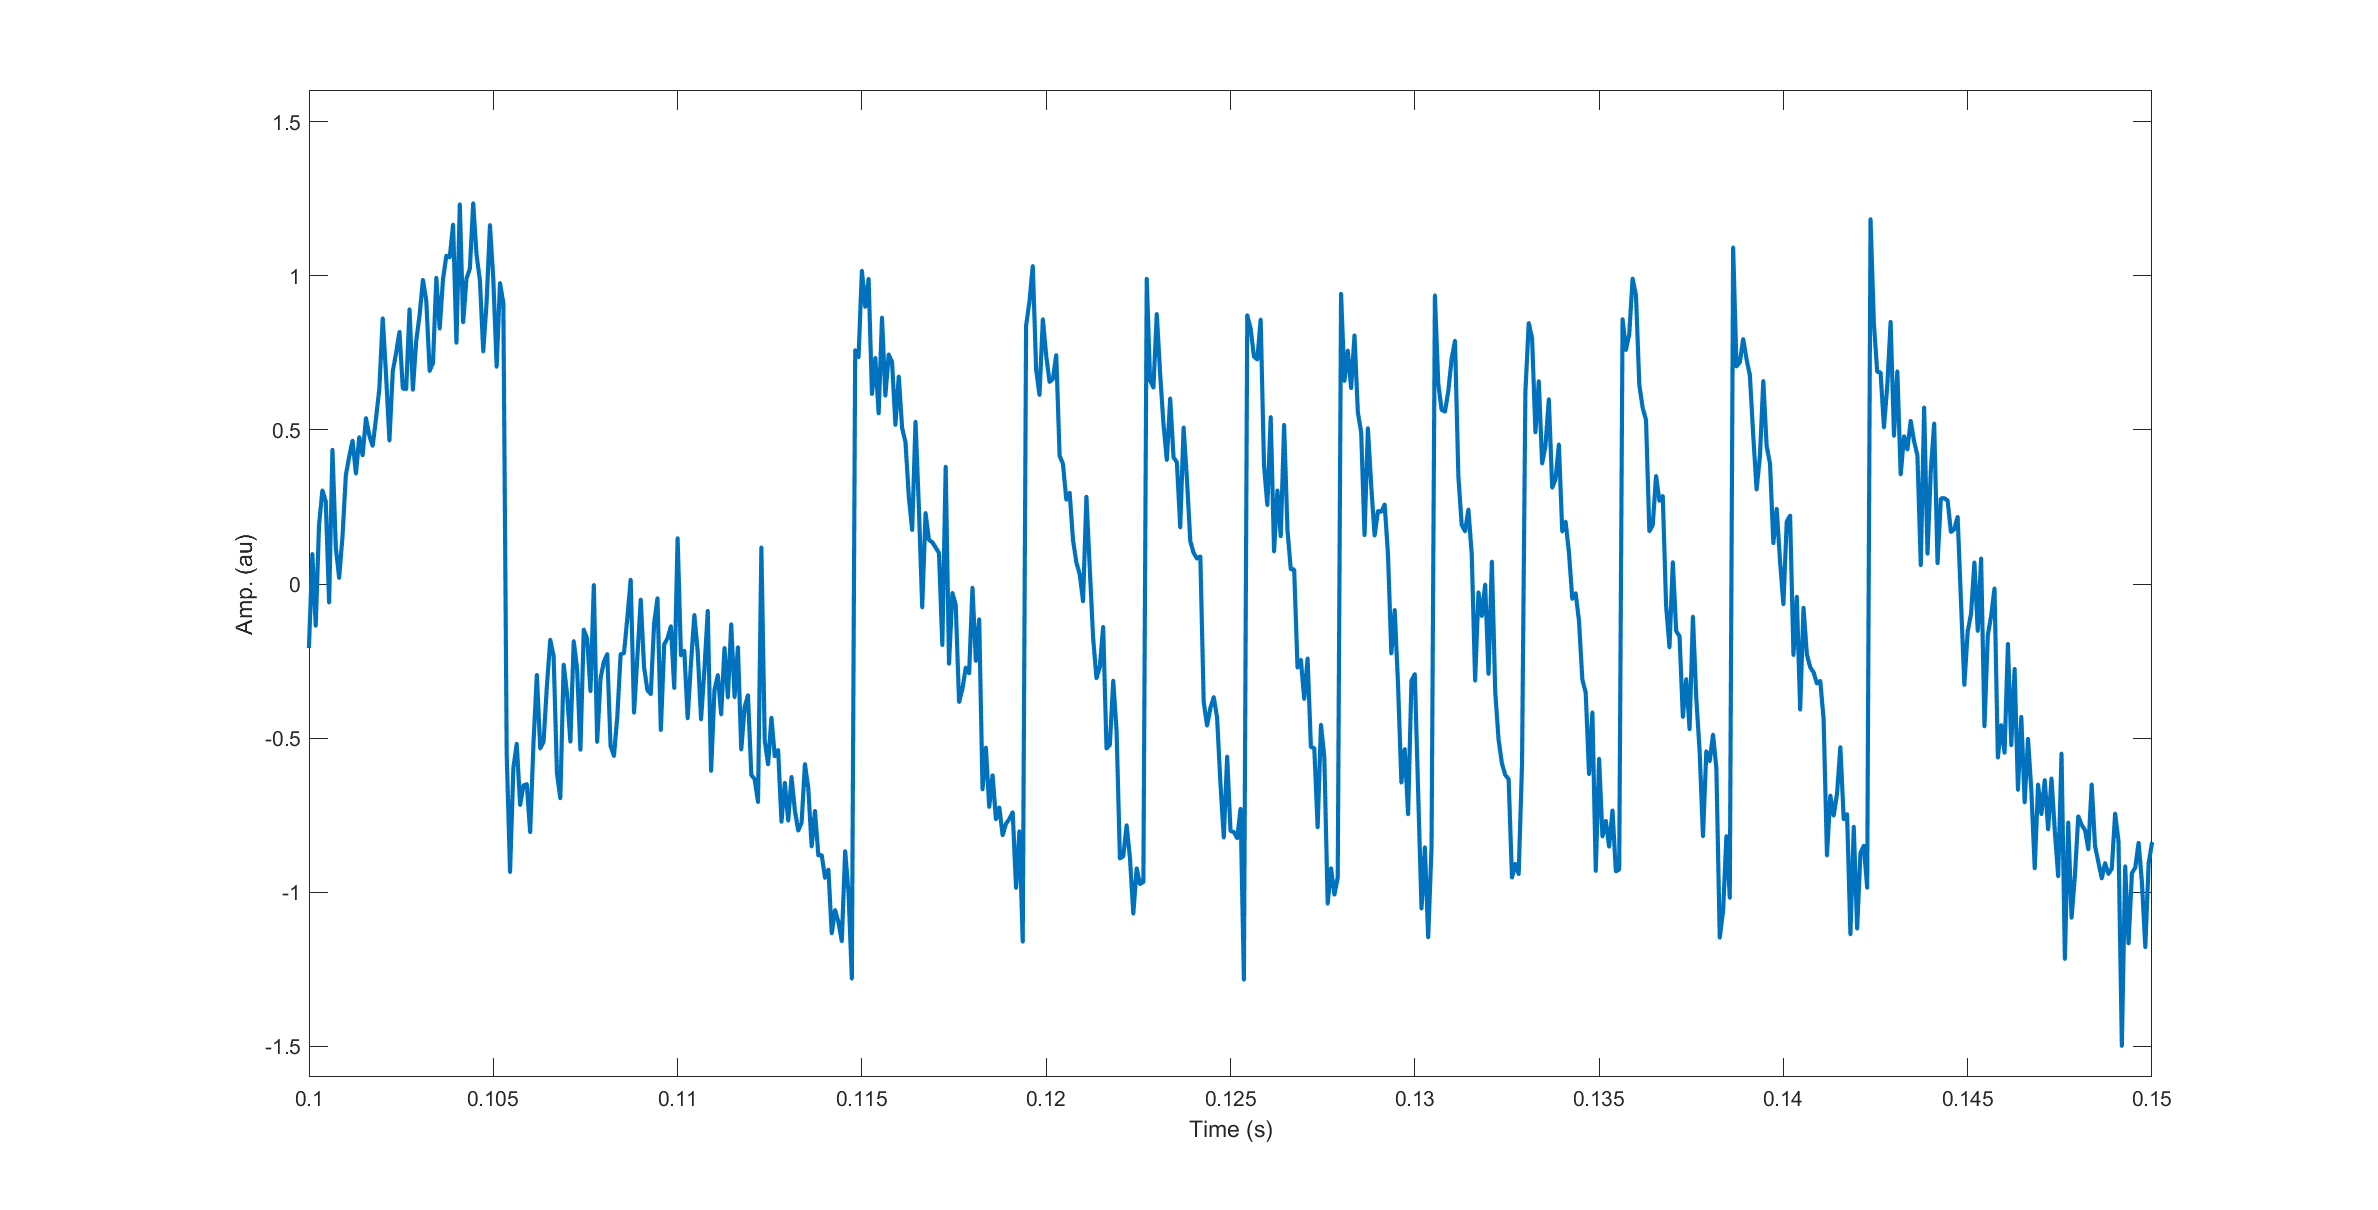negative_fringe: (1853, 205, 2025, 937), (835, 242, 994, 992), (1714, 232, 1849, 929), (1006, 262, 1122, 955), (1127, 258, 1218, 894), (1606, 262, 1696, 898), (1423, 272, 1506, 948), (1238, 295, 1316, 999), (1514, 309, 1600, 895), (1326, 292, 1401, 907)
positive_fringe: (341, 177, 525, 886)
